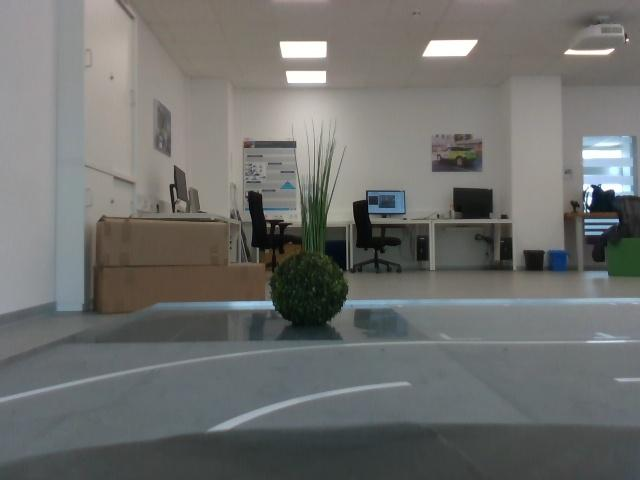potted plant: (288, 118, 347, 250), (265, 248, 350, 328)
